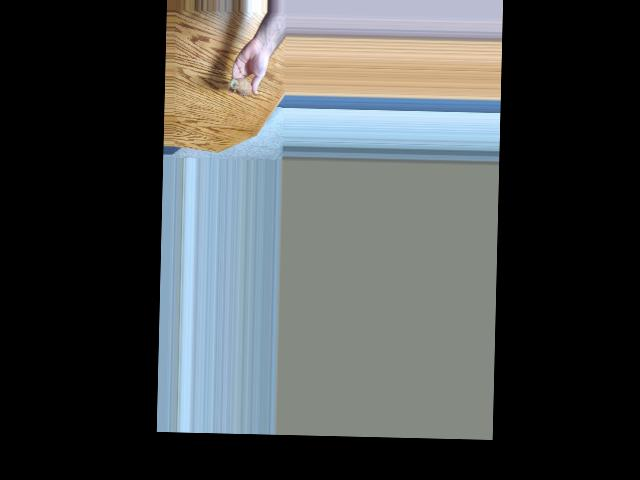sweet_potato: (229, 78, 255, 103)
